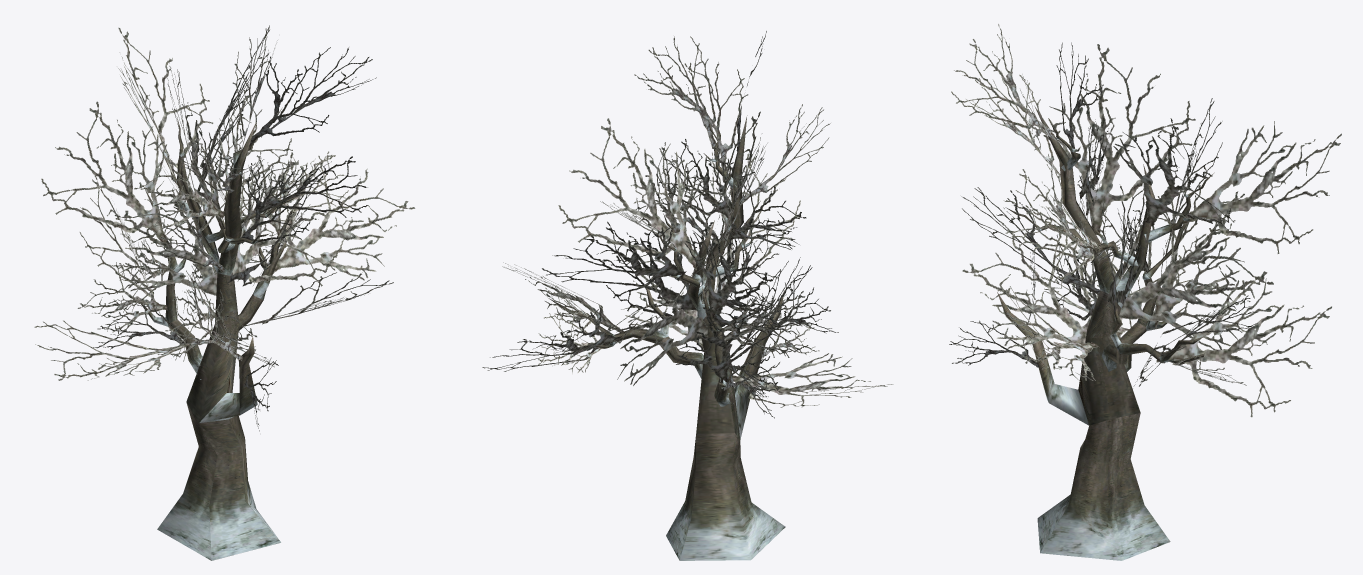
The model's file is environment_Tree_xue_002_b.FBX.
3 renders of one model, left to right at view 1: azimuth 30°, elevation 25°; view 2: azimuth 150°, elevation 25°; view 3: azimuth 270°, elevation 25°, orthographic. The views are drawn at different scales.
Visible parts, largest first — view 1: environment_Tree_xue_002_b; view 2: environment_Tree_xue_002_b; view 3: environment_Tree_xue_002_b.
Part boxes in pixels (bbox=[...]): environment_Tree_xue_002_b: bbox=[34, 25, 415, 560]; environment_Tree_xue_002_b: bbox=[482, 31, 893, 560]; environment_Tree_xue_002_b: bbox=[949, 24, 1341, 560].
Bounding box in the file's own units: 346 × 425 × 301.
